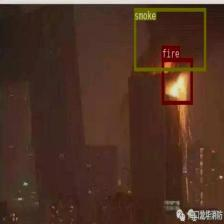fire: (162, 58, 192, 104)
smoke: (134, 7, 206, 71)
